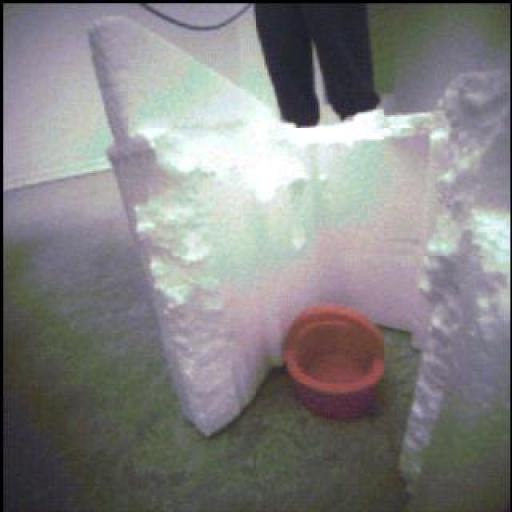Bucket: (284, 307, 385, 420)
